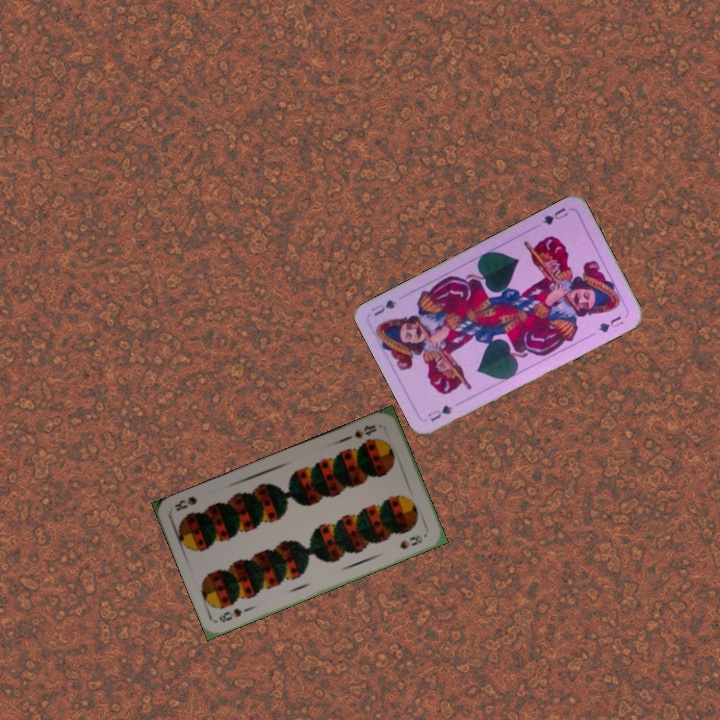GU: (538, 203, 571, 228), (424, 401, 455, 424)
S8: (215, 603, 254, 625), (350, 421, 379, 441)
